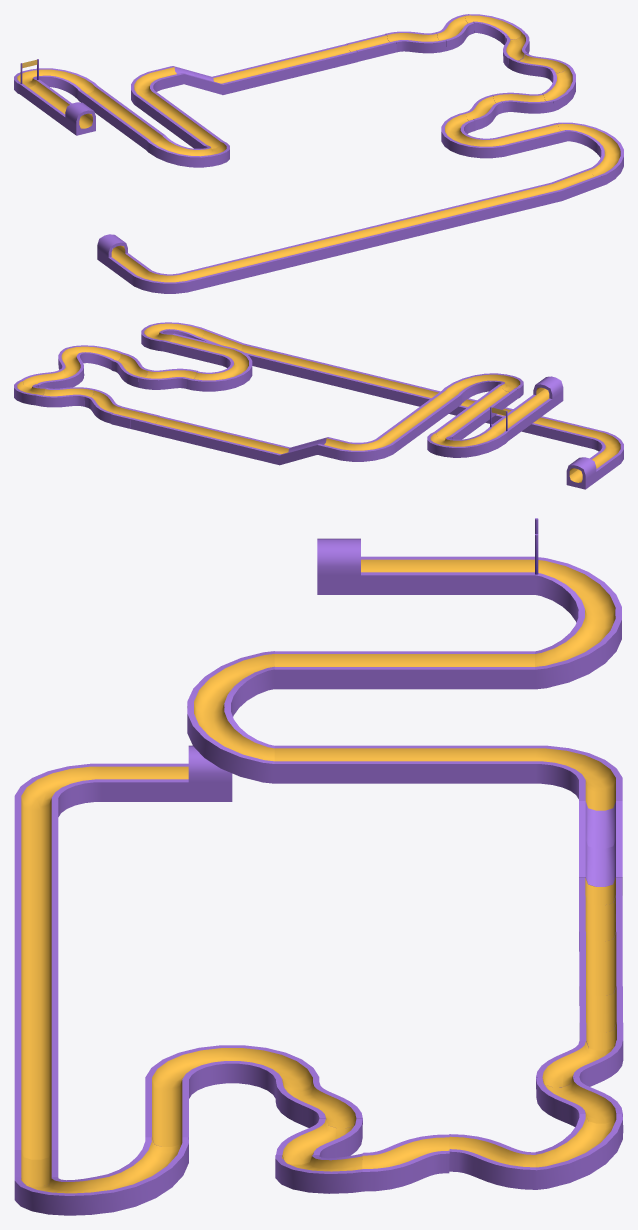
Rendered from savage_speedway_s1.glb.
The picture shows the model from 3 angles, top to bottom: view 1: azimuth 30°, elevation 25°; view 2: azimuth 150°, elevation 25°; view 3: azimuth 270°, elevation 25°; orthographic projection. The views are drawn at different scales.
Parts seen in each view (by area): view 1: helix-half-left.003, bend-medium, helix-half-right, helix-half-left, curve.001, s-curve-short-left-c.001, s-curve-short-left-c.004, helix-quarter-left, helix-quarter-left.001, s-curve-short-left-c.003, slant-long-a, s-curve-short-left-c (+38 smaller); view 2: bend-medium, helix-half-left, helix-half-right, helix-half-left.003, curve, s-curve-short-left-c.005, s-curve-short-left-c, helix-quarter-left.001, s-curve-short-left-c.002, s-curve-short-left-c.004, s-curve-short-left-c.001, curve.001 (+51 smaller); view 3: helix-half-right, helix-half-left, helix-half-left.003, bend-medium, helix-quarter-left, s-curve-short-left-c.003, s-curve-short-left-c.002, curve, curve.001, helix-quarter-left.001, s-curve-short-left-c, s-curve-short-left-c.005 (+25 smaller).
Boxes of the visible parts, box(x1,y1,x2,y2) form: helix-half-left.003: box(556, 122, 623, 186); bend-medium: box(441, 112, 508, 158); helix-half-right: box(146, 135, 229, 167); helix-half-left: box(14, 68, 97, 99); curve.001: box(131, 269, 192, 293); s-curve-short-left-c.001: box(385, 31, 446, 53); s-curve-short-left-c.004: box(492, 92, 553, 113); helix-quarter-left: box(464, 14, 524, 45); helix-quarter-left.001: box(542, 65, 575, 111); s-curve-short-left-c.003: box(508, 53, 569, 79); slant-long-a: box(551, 168, 601, 200); s-curve-short-left-c: box(436, 14, 474, 50); bend-medium: box(187, 347, 252, 391); helix-half-left: box(427, 427, 508, 457); helix-half-right: box(442, 373, 523, 404); helix-half-left.003: box(141, 322, 205, 351); curve: box(336, 438, 395, 461); s-curve-short-left-c.005: box(138, 368, 197, 389); s-curve-short-left-c: box(36, 387, 94, 407); helix-quarter-left.001: box(64, 345, 122, 369); s-curve-short-left-c.002: box(20, 369, 79, 388); s-curve-short-left-c.004: box(111, 352, 148, 387); s-curve-short-left-c.001: box(84, 389, 121, 423); curve.001: box(591, 431, 623, 465); helix-half-right: box(187, 651, 274, 783); helix-half-left: box(535, 557, 621, 689); helix-half-left.003: box(14, 1137, 188, 1215); bend-medium: box(145, 1045, 319, 1098); helix-quarter-left: box(535, 1114, 622, 1189); s-curve-short-left-c.003: box(362, 1134, 449, 1191); s-curve-short-left-c.002: box(449, 1134, 535, 1189); curve: box(535, 745, 622, 798); curve.001: box(14, 763, 101, 816); helix-quarter-left.001: box(275, 1153, 362, 1193); s-curve-short-left-c: box(536, 1077, 623, 1132); s-curve-short-left-c.005: box(275, 1081, 362, 1128).
Bounding box in the file's own units: 26 × 6.78 × 13.99.
Materials: 73 (73 with a texture image).
